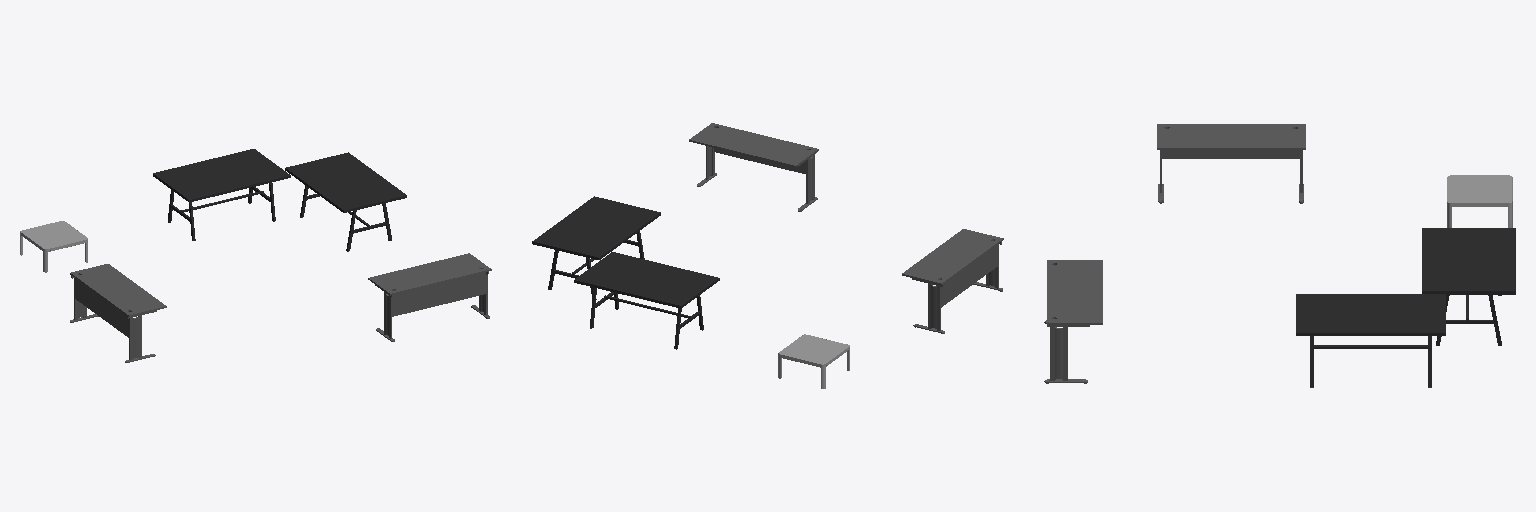
URDF robot description (RobotRoom_standard):
<?xml version="1.0"?>
<!-- created with Phobos 1.0.1 "Capricious Choutengan" -->
  <robot name="RobotRoom_standard">

    <link name="BookShelf_Tall_root">
      <inertial>
        <origin xyz="0 0 0" rpy="0 0 0"/>
        <mass value="25.0"/>
        <inertia ixx="21.10664" ixy="2e-05" ixz="1e-05" iyy="21.32676" iyz="0.03016" izz="0.71132"/>
      </inertial>
      <visual name="BookShelf_Tall">
        <origin xyz="0 0 0" rpy="1.5708 0 0"/>
        <geometry>
          <mesh filename="package://RobotRoom_standard/meshes/dae/uploads_files_1909718_Bookcase_WoodenBlackandBrown.dae" scale="0.001 0.001 0.001"/>
        </geometry>
        <material name="Metal"/>
      </visual>
      <collision name="BookShelf_Tall.000">
        <origin xyz="0 0 0" rpy="1.5708 0 0"/>
        <geometry>
          <mesh filename="package://RobotRoom_standard/meshes/dae/uploads_files_1909718_Bookcase_WoodenBlackandBrown.001.dae" scale="1.0 1.0 1.0"/>
        </geometry>
      </collision>
    </link>

    <link name="OfficeDesk_root">
      <inertial>
        <origin xyz="0 0 0" rpy="0 0 0"/>
        <mass value="50.0"/>
        <inertia ixx="13.47679" ixy="-0.01406" ixz="-0.00505" iyy="21.06994" iyz="-0.91812" izz="9.64373"/>
      </inertial>
      <visual name="OfficeDesk">
        <origin xyz="0 0 0" rpy="0 0 0"/>
        <geometry>
          <mesh filename="package://RobotRoom_standard/meshes/dae/OfficeDeskMesh.dae" scale="1.0 1.0 1.0"/>
        </geometry>
        <material name="Material.002"/>
      </visual>
      <collision name="OfficeDesk.col">
        <origin xyz="0 0 0" rpy="0 0 0"/>
        <geometry>
          <mesh filename="package://RobotRoom_standard/meshes/dae/OfficeDeskMesh.002.dae" scale="1.0 1.0 1.0"/>
        </geometry>
      </collision>
    </link>

    <link name="OfficeDesk_root.001">
      <inertial>
        <origin xyz="0 0 0" rpy="0 0 0"/>
        <mass value="50.0"/>
        <inertia ixx="13.47679" ixy="-0.01406" ixz="-0.00505" iyy="21.06994" iyz="-0.91812" izz="9.64373"/>
      </inertial>
      <visual name="OfficeDesk.001">
        <origin xyz="0 0 0" rpy="0 0 0"/>
        <geometry>
          <mesh filename="package://RobotRoom_standard/meshes/dae/OfficeDeskMesh.003.dae" scale="1.0 1.0 1.0"/>
        </geometry>
        <material name="Material.002"/>
      </visual>
      <collision name="OfficeDesk.col.001">
        <origin xyz="0 0 0" rpy="0 0 0"/>
        <geometry>
          <mesh filename="package://RobotRoom_standard/meshes/dae/OfficeDeskMesh.001.dae" scale="1.0 1.0 1.0"/>
        </geometry>
      </collision>
    </link>

    <link name="RobotRoom_standard">
      <inertial>
        <origin xyz="0 0 0" rpy="0 0 0"/>
        <mass value="0.001"/>
        <inertia ixx="0.001" ixy="0" ixz="0" iyy="0.001" iyz="0" izz="0.001"/>
      </inertial>
    </link>

    <link name="SimpleTable_root">
      <inertial>
        <origin xyz="0 0 0" rpy="0 0 0"/>
        <mass value="60.0"/>
        <inertia ixx="24.7636" ixy="0.2899" ixz="-0.00996" iyy="18.82603" iyz="0.54268" izz="11.70922"/>
      </inertial>
      <visual name="SimpleTable">
        <origin xyz="0 0 0" rpy="0 0 0"/>
        <geometry>
          <mesh filename="package://RobotRoom_standard/meshes/dae/Plane.011.dae" scale="1.0 1.0 1.0"/>
        </geometry>
        <material name="abciuppa_w_node"/>
      </visual>
      <collision name="SimpleTable.col">
        <origin xyz="0 0 0" rpy="0 0 0"/>
        <geometry>
          <mesh filename="package://RobotRoom_standard/meshes/dae/Plane.000.dae" scale="1.0 1.0 1.0"/>
        </geometry>
      </collision>
    </link>

    <link name="SimpleTable_root.001">
      <inertial>
        <origin xyz="0 0 0" rpy="0 0 0"/>
        <mass value="60.0"/>
        <inertia ixx="24.7636" ixy="0.2899" ixz="-0.00996" iyy="18.82603" iyz="0.54268" izz="11.70922"/>
      </inertial>
      <visual name="SimpleTable.001">
        <origin xyz="0 0 0" rpy="0 0 0"/>
        <geometry>
          <mesh filename="package://RobotRoom_standard/meshes/dae/Plane.002.dae" scale="1.0 1.0 1.0"/>
        </geometry>
        <material name="abciuppa_w_node"/>
      </visual>
      <collision name="SimpleTable.col.001">
        <origin xyz="0 0 0" rpy="0 0 0"/>
        <geometry>
          <mesh filename="package://RobotRoom_standard/meshes/dae/Plane.001.dae" scale="1.0 1.0 1.0"/>
        </geometry>
      </collision>
    </link>

    <link name="root_Short_Table">
      <inertial>
        <origin xyz="0 0 0" rpy="0 0 0"/>
        <mass value="13.0"/>
        <inertia ixx="1.21708" ixy="0" ixz="0" iyy="1.21708" iyz="0" izz="0.90797"/>
      </inertial>
      <visual name="Short_Table">
        <origin xyz="0 0 0" rpy="0 0 0"/>
        <geometry>
          <mesh filename="package://RobotRoom_standard/meshes/dae/Cube.012.dae" scale="1.0 1.0 1.0"/>
        </geometry>
        <material name="Material.004"/>
      </visual>
      <collision name="Short_Table.000">
        <origin xyz="0 0 0" rpy="0 0 0"/>
        <geometry>
          <mesh filename="package://RobotRoom_standard/meshes/dae/Cube.011.dae" scale="1.0 1.0 1.0"/>
        </geometry>
      </collision>
    </link>

    <joint name="BookShelf_Tall_root" type="floating">
      <origin xyz="-2.30382 -2.23733 0" rpy="0 0 -1.5708"/>
      <parent link="RobotRoom_standard"/>
      <child link="BookShelf_Tall_root"/>
    </joint>

    <joint name="OfficeDesk_root" type="floating">
      <origin xyz="-2.32431 -0.55681 0" rpy="0 0 1.5708"/>
      <parent link="RobotRoom_standard"/>
      <child link="OfficeDesk_root"/>
    </joint>

    <joint name="OfficeDesk_root.001" type="floating">
      <origin xyz="1.633 -2.25061 0" rpy="0 0 -3.14159"/>
      <parent link="RobotRoom_standard"/>
      <child link="OfficeDesk_root.001"/>
    </joint>

    <joint name="SimpleTable_root" type="floating">
      <origin xyz="2.16171 0.96655 0" rpy="0 0 0"/>
      <parent link="RobotRoom_standard"/>
      <child link="SimpleTable_root"/>
    </joint>

    <joint name="SimpleTable_root.001" type="floating">
      <origin xyz="0.77031 2.01027 0" rpy="0 0 1.5708"/>
      <parent link="RobotRoom_standard"/>
      <child link="SimpleTable_root.001"/>
    </joint>

    <joint name="root_Short_Table" type="floating">
      <origin xyz="-1.78256 2.11576 0" rpy="0 0 0"/>
      <parent link="RobotRoom_standard"/>
      <child link="root_Short_Table"/>
    </joint>

    <material name="Material.002">
      <color rgba="0.39754 0.39754 0.39754 1.0"/>
    </material>

    <material name="Material.004">
      <color rgba="0.64 0.64 0.64 1.0"/>
    </material>

    <material name="Metal">
      <color rgba="0.02328 0.02328 0.02328 1.0"/>
    </material>

    <material name="abciuppa_w_node">
      <color rgba="0.21404 0.21404 0.21404 1.0"/>
    </material>

  </robot>

--- Render facts (derived) ---
The picture shows the robot from 3 angles, left to right: view 1: azimuth 30°, elevation 25°; view 2: azimuth 150°, elevation 25°; view 3: azimuth 270°, elevation 25°; orthographic projection.
Robot: RobotRoom_standard — 7 links, 6 joints (6 floating); root link RobotRoom_standard; default pose: all joints at 0.
Visible links, largest first — view 1: OfficeDesk_root.001, SimpleTable_root.001, SimpleTable_root, OfficeDesk_root, root_Short_Table; view 2: SimpleTable_root.001, SimpleTable_root, OfficeDesk_root, OfficeDesk_root.001, root_Short_Table; view 3: SimpleTable_root, SimpleTable_root.001, OfficeDesk_root, OfficeDesk_root.001, root_Short_Table.
Link boxes in pixels (x1,y1,x2,y2): OfficeDesk_root.001: (368,253,491,341); SimpleTable_root.001: (153,149,290,240); SimpleTable_root: (285,152,406,251); OfficeDesk_root: (70,264,166,362); root_Short_Table: (20,221,87,272); SimpleTable_root.001: (574,252,719,349); SimpleTable_root: (532,196,660,299); OfficeDesk_root: (902,229,1003,333); OfficeDesk_root.001: (689,123,818,211); root_Short_Table: (778,334,849,388); SimpleTable_root: (1296,294,1445,387); SimpleTable_root.001: (1422,228,1515,345); OfficeDesk_root: (1157,124,1305,203); OfficeDesk_root.001: (1044,260,1102,383); root_Short_Table: (1447,175,1512,227).
Size in the robot's own frame: 5.29 by 5.06 by 0.7318 metres.
Meshes: 6 distinct files referenced, 5 mesh visuals loaded (5 Collada DAE); not drawn: 1 (reference not matched to a file when rendering).
